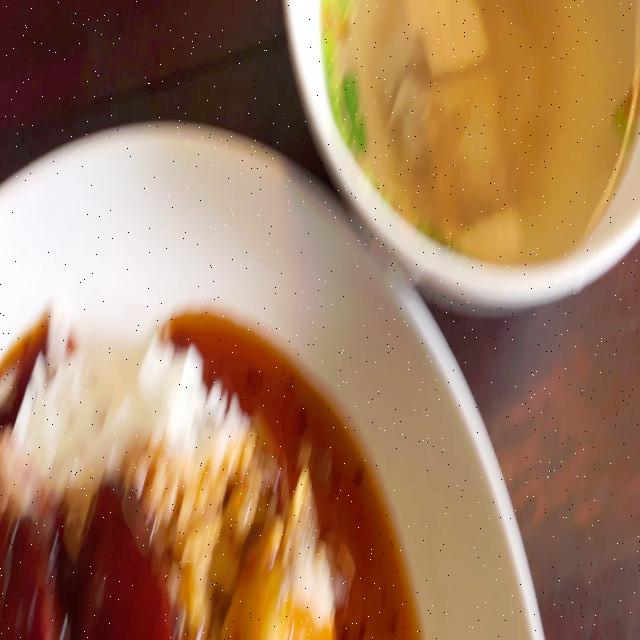chainese_sausage: (26, 480, 156, 640)
crispy_pork: (228, 460, 333, 640)
red_pork_and_crispy_pork: (0, 320, 347, 640)
rice: (10, 306, 246, 486)
